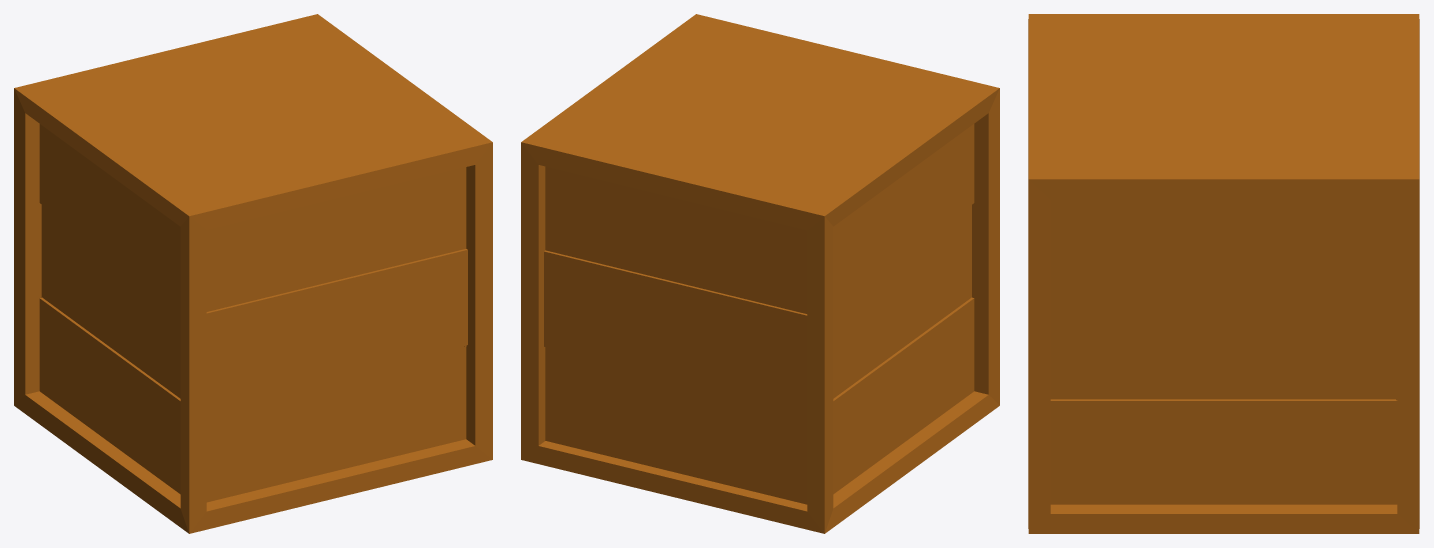
3 renders of one model, left to right at view 1: azimuth 30°, elevation 25°; view 2: azimuth 150°, elevation 25°; view 3: azimuth 270°, elevation 25°, orthographic. The views are drawn at different scales.
Visible parts, largest first — view 1: Kotak; view 2: Kotak; view 3: Kotak.
Boxes of the visible parts, x1,y1,x2,y2 form: Kotak: (14,14,492,533); Kotak: (521,14,999,533); Kotak: (1028,14,1419,533).
Bounding box in the file's own units: 125 × 125 × 125.
